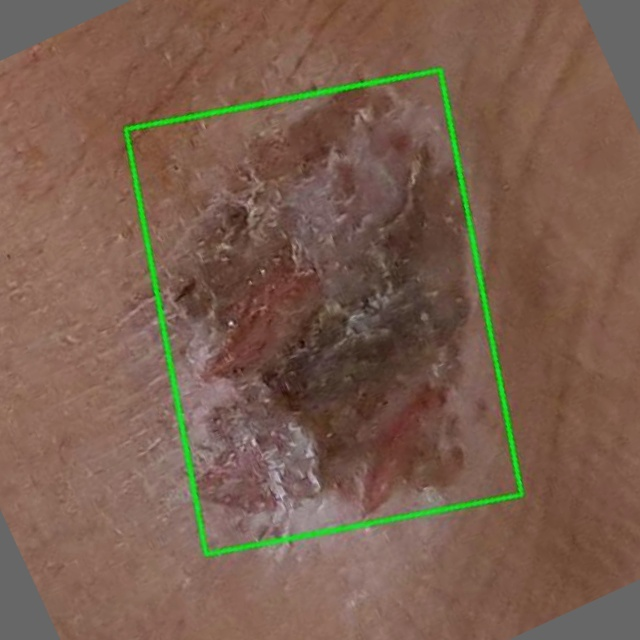Contact Dermatitis: (126, 69, 522, 554)
